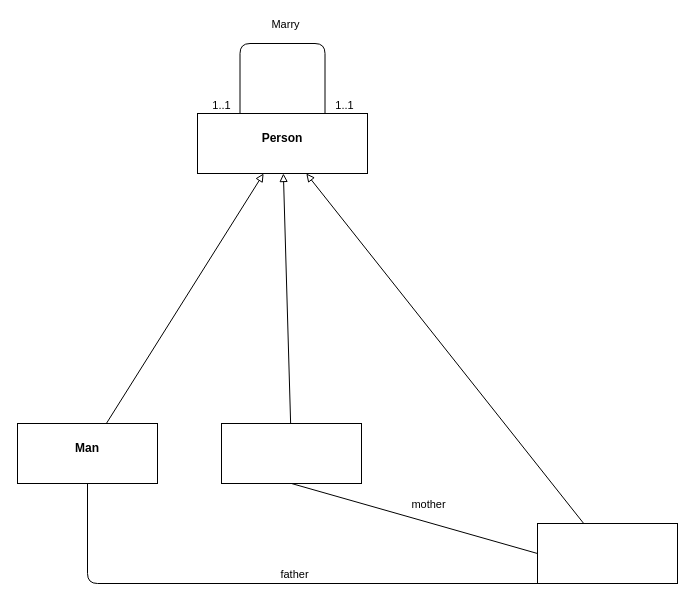
Image size: 695x602. Some labels were removed from this diagram. The shapes that lost their labels are listed below. From the top down, each one's centre as x and y in pixels, then its label:
At [291,453]: "Woman".
At [607,553]: "Child".
